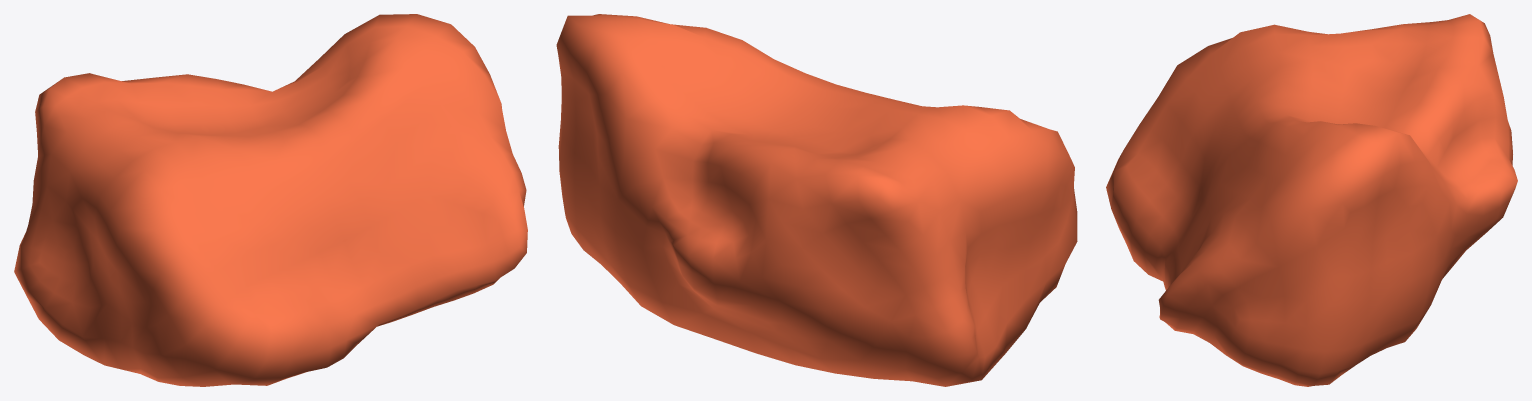
The model's file is Pedraustor4.fbx.
3 renders of one model, left to right at view 1: azimuth 30°, elevation 25°; view 2: azimuth 150°, elevation 25°; view 3: azimuth 270°, elevation 25°, orthographic. The views are drawn at different scales.
Visible parts, largest first — view 1: Box1; view 2: Box1; view 3: Box1.
Part boxes in pixels (x1,y1,x2,y2): Box1: [14, 14, 527, 386]; Box1: [556, 14, 1077, 386]; Box1: [1106, 14, 1517, 386].
Size of the model in its own units: 1.98 by 1.11 by 1.65.
